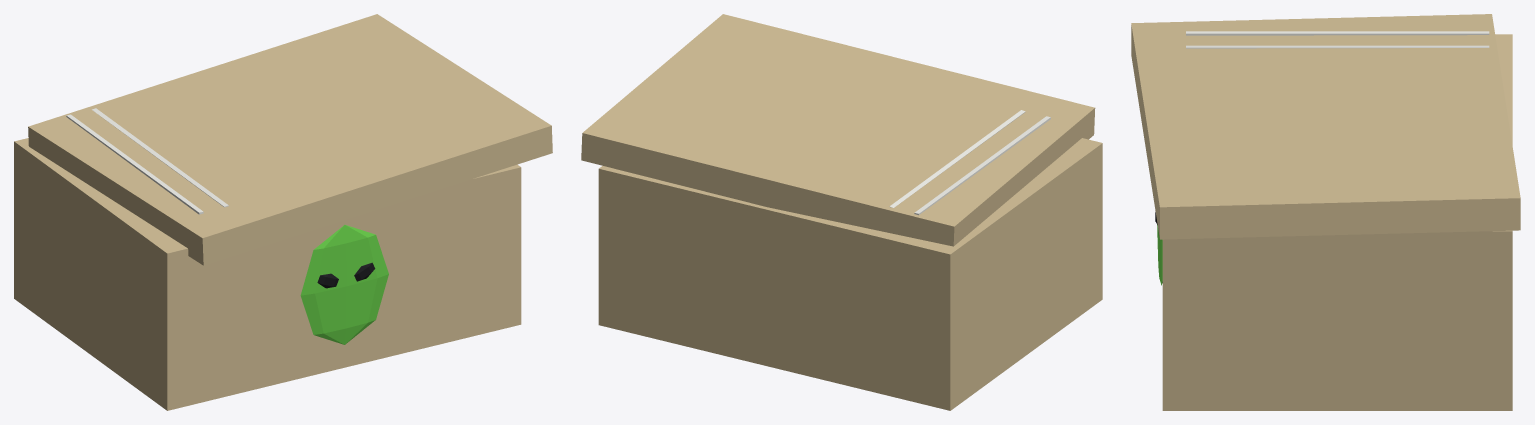
File: ufo_policies.glb
3 renders of one model, left to right at view 1: azimuth 30°, elevation 25°; view 2: azimuth 150°, elevation 25°; view 3: azimuth 270°, elevation 25°, orthographic. The views are drawn at different scales.
Parts seen in each view (by area): view 1: box_file_box, lid_file_box, sticker_alien_green, papers_policy_paper (×2); view 2: box_file_box, lid_file_box, papers_policy_paper (×2); view 3: lid_file_box, box_file_box, papers_policy_paper (×2).
Part boxes in pixels (x1=…): box_file_box: x1=14, y1=138, x2=521, y2=410; lid_file_box: x1=28, y1=14, x2=552, y2=265; sticker_alien_green: x1=300, y1=225, x2=388, y2=344; papers_policy_paper (×2): x1=66, y1=108, x2=228, y2=214; box_file_box: x1=598, y1=138, x2=1102, y2=410; lid_file_box: x1=581, y1=14, x2=1095, y2=246; papers_policy_paper (×2): x1=889, y1=110, x2=1050, y2=215; lid_file_box: x1=1131, y1=14, x2=1520, y2=239; box_file_box: x1=1162, y1=34, x2=1512, y2=410; papers_policy_paper (×2): x1=1186, y1=31, x2=1489, y2=48.
Bounding box in the file's own units: 0.4344 × 0.2082 × 0.3341.
